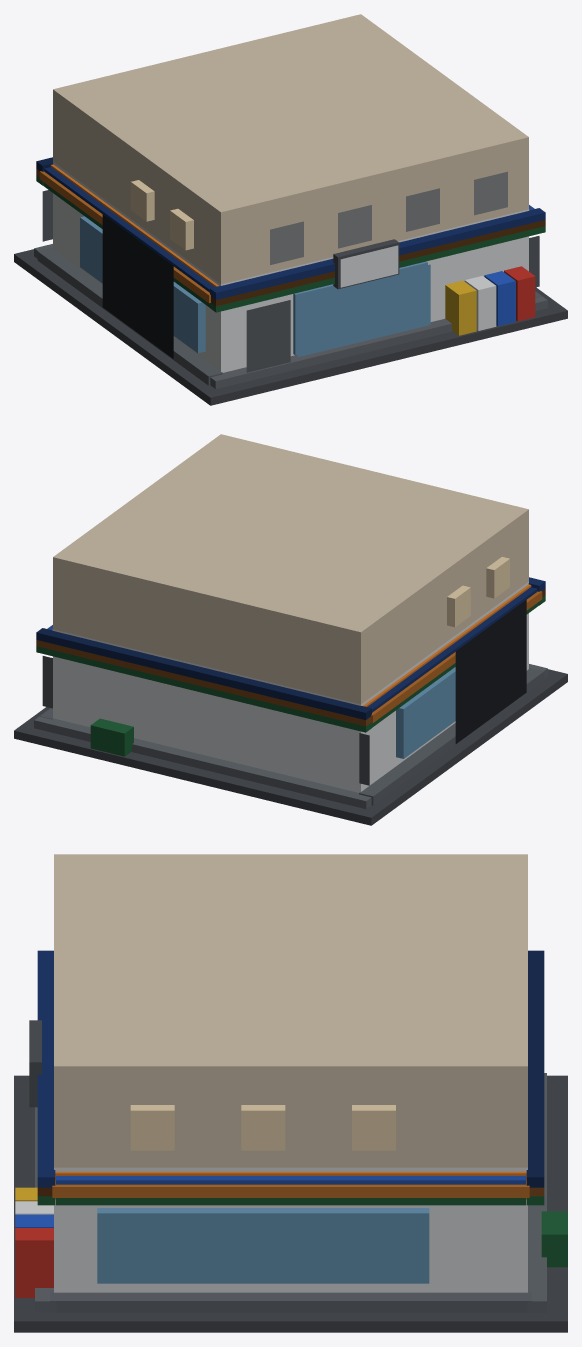
The model's file is DevourerVendingSil.fbx.
3 renders of one model, top to bottom at view 1: azimuth 30°, elevation 25°; view 2: azimuth 150°, elevation 25°; view 3: azimuth 270°, elevation 25°, orthographic. The views are drawn at different scales.
Visible parts, largest first — view 1: VM_S_All; view 2: VM_S_All; view 3: VM_S_All.
Boxes of the visible parts, left/top/right/bottom form: VM_S_All: left=14, top=14, right=567, bottom=405; VM_S_All: left=14, top=434, right=567, bottom=825; VM_S_All: left=14, top=854, right=567, bottom=1332.
Size of the model in its own units: 42.04 by 19.9 by 40.04.
